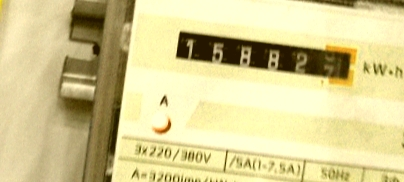1: (179, 35, 195, 59)
2: (289, 49, 308, 75)
5: (207, 38, 223, 65)
7: (319, 59, 333, 78)
8: (262, 46, 279, 72), (235, 43, 250, 68)
screen: (162, 20, 364, 96)
